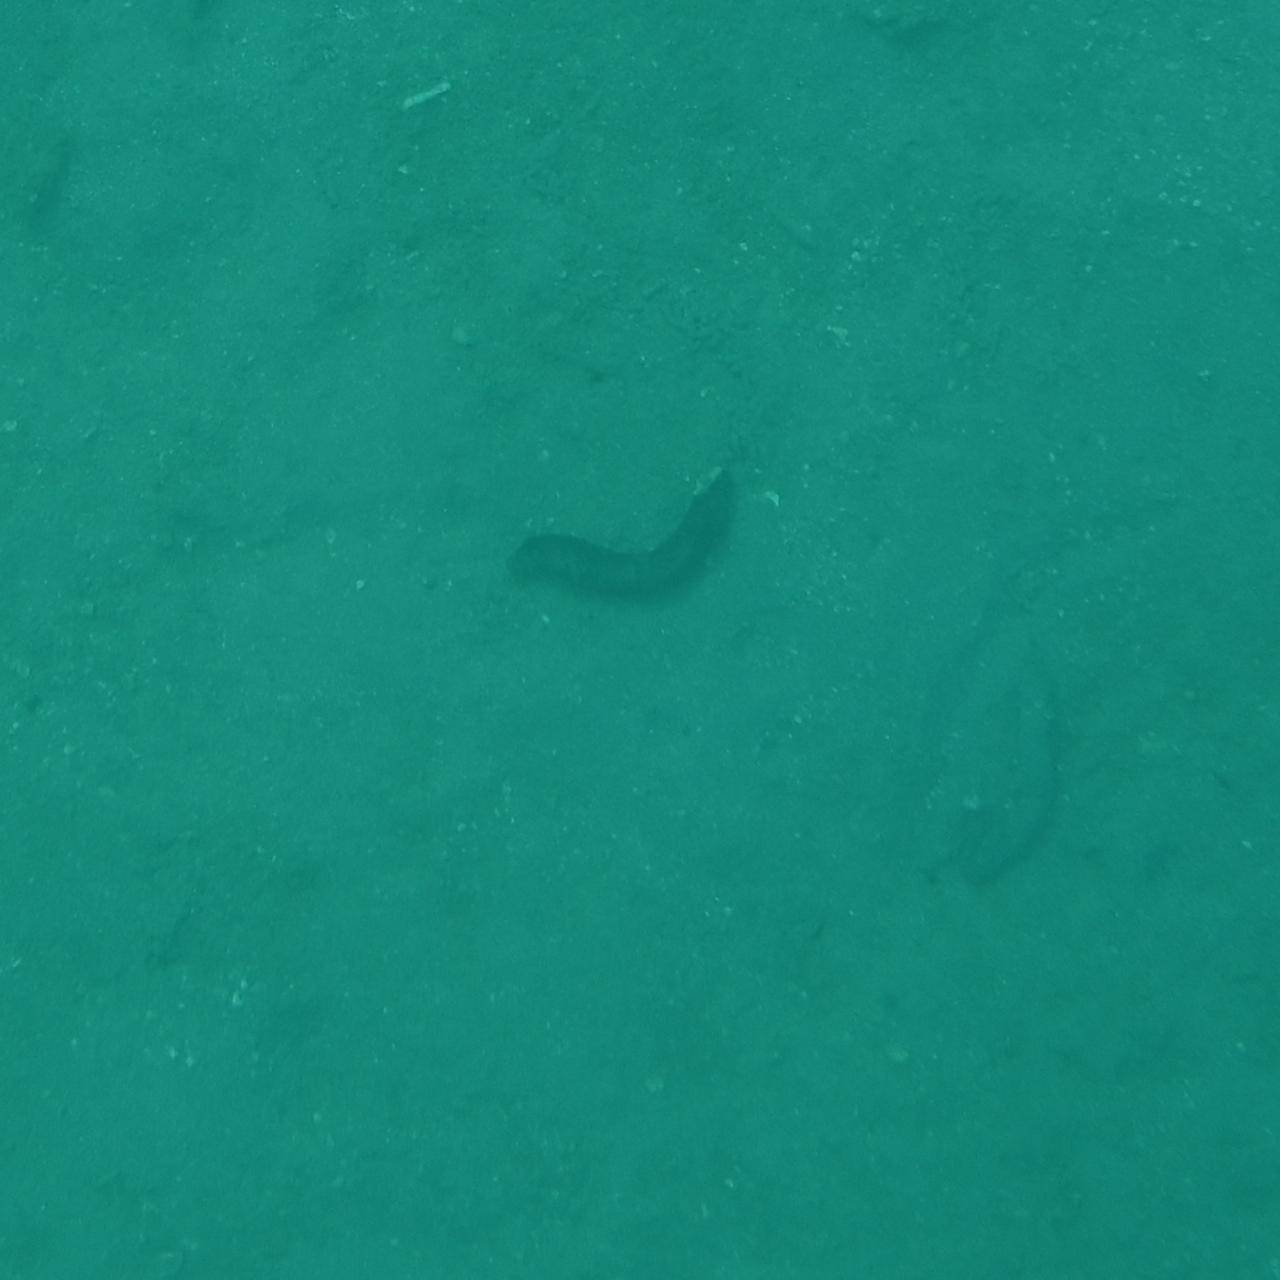Holothuria tubulosa: (508, 465, 772, 619), (0, 663, 116, 974), (958, 640, 1070, 922), (1194, 608, 1280, 953), (0, 981, 151, 1153), (86, 0, 335, 98), (0, 685, 70, 954), (1189, 856, 1280, 1047), (1054, 1200, 1257, 1280), (1182, 148, 1280, 308), (0, 1069, 66, 1280), (1212, 1055, 1280, 1250), (0, 0, 80, 134), (0, 1203, 135, 1280), (1193, 1165, 1280, 1280), (0, 0, 56, 170), (0, 0, 118, 64)
